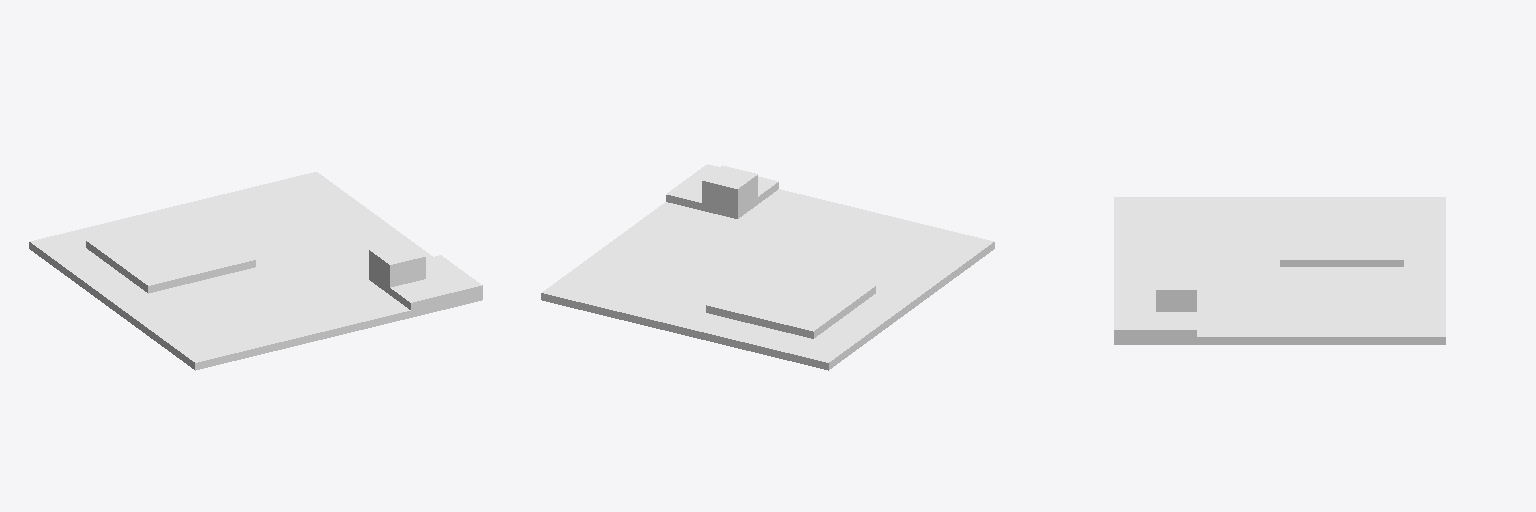
The model's file is toto.obj.
The picture shows the model from 3 angles: view 1: azimuth 30°, elevation 25°; view 2: azimuth 150°, elevation 25°; view 3: azimuth 270°, elevation 25°; orthographic projection.
Size of the model in its own units: 40 by 5 by 40.